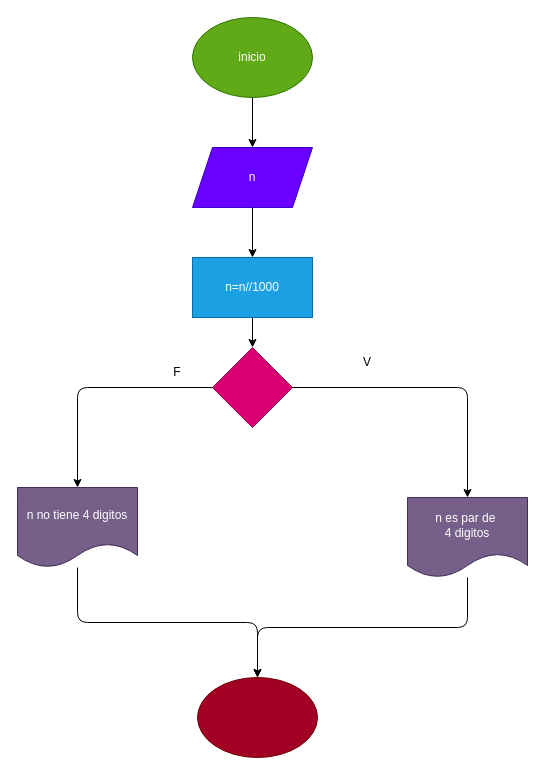
This 545x775 diagram has some shape labels left out. Here are the shapes that lost their labels. From the top down, the box of each, then its label:
(212, 346, 292, 428): 10>n>0
(196, 676, 318, 758): fin
